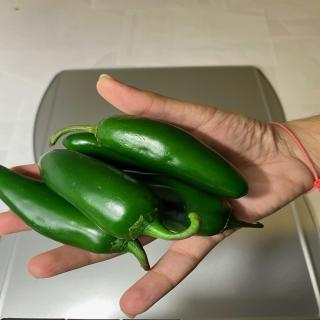Chilli: (1, 114, 263, 271), (48, 114, 250, 200)
Tomato: (0, 164, 153, 271), (37, 149, 202, 241), (123, 169, 264, 237)
